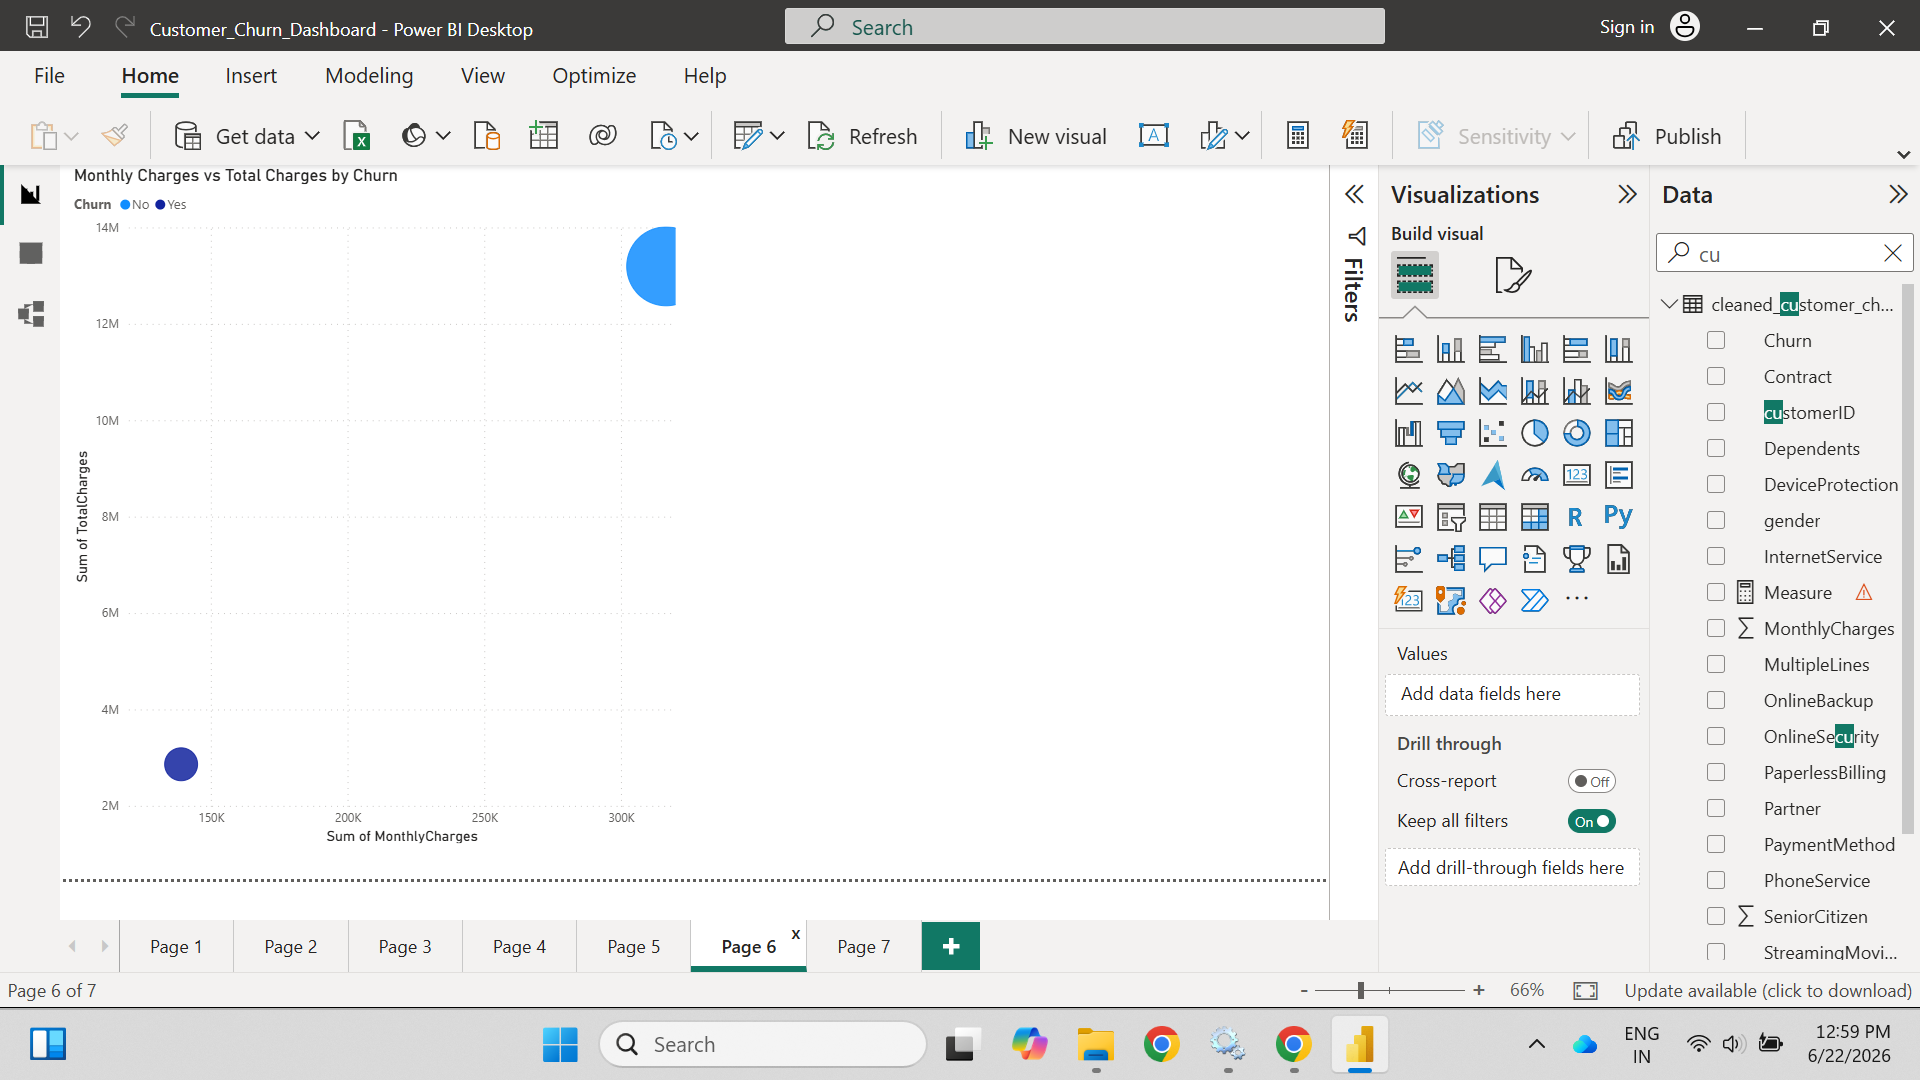

This screenshot's page, from the dashboard's own definition file:
{"tool":"powerbi","page":{"name":"Page 6","canvas":[1280,720],"ordinal":5},"visuals":[{"type":"scatterChart","title":"Monthly Charges vs Total Charges by Churn","fields":{"X":["Sum(cleaned_customer_churn.MonthlyCharges)"],"Y":["Sum(cleaned_customer_churn.TotalCharges)"],"Series":["cleaned_customer_churn.Churn"],"Size":["Sum(cleaned_customer_churn.tenure)"]},"box":[9.4,0,630.6,689.1],"z":0},{"type":"textbox","box":[650,0,630,689],"z":1}]}

Visuals, with their boxes on the page's 1280x720 design canvas (x1, y1, x2, y2). These are canvas units, not pixel positions in the 1920x1080 screenshot, which may show the page scaled, cropped or inside an application window:
"Monthly Charges vs Total Charges by Churn" scatterChart: {"left": 9, "top": 0, "right": 640, "bottom": 689}
textbox: {"left": 650, "top": 0, "right": 1280, "bottom": 689}
